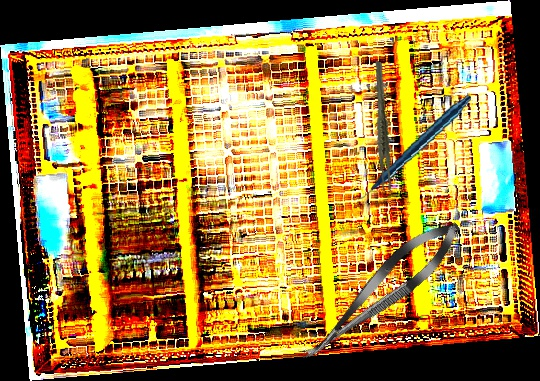Handpiece: (340, 94, 482, 201)
Micro Scissor: (290, 209, 471, 374)
Tissue Forceps: (358, 60, 408, 193)
